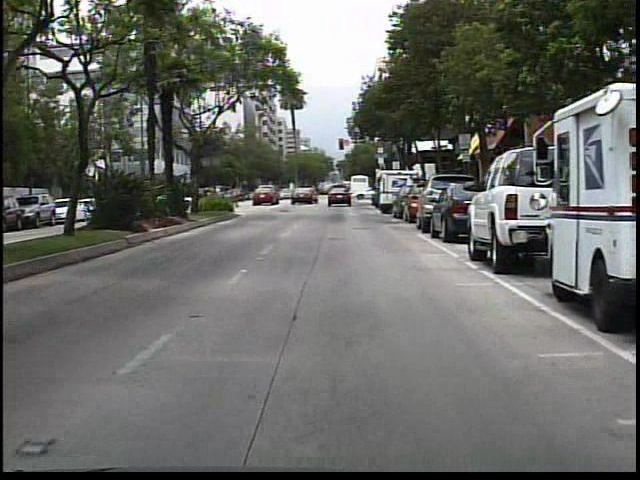person: (328, 181, 344, 204), (309, 184, 322, 205)
